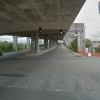Bridge: (2, 0, 89, 55)
